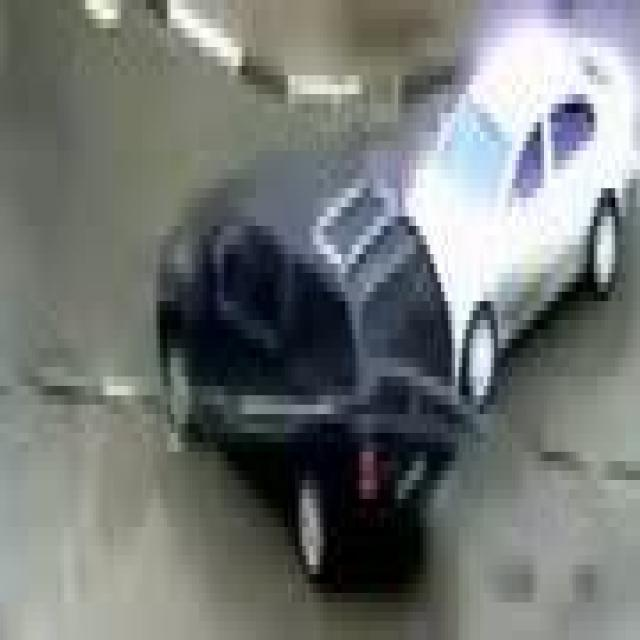accident: (154, 19, 640, 591)
